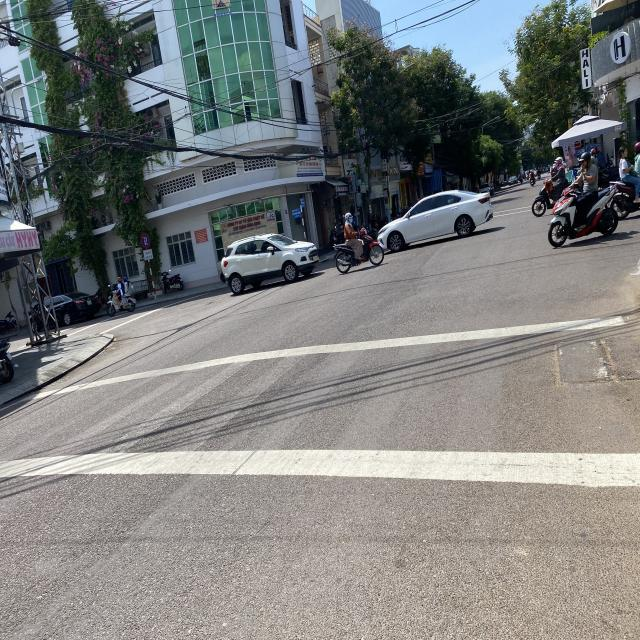walk-crossing: (0, 316, 640, 490)
